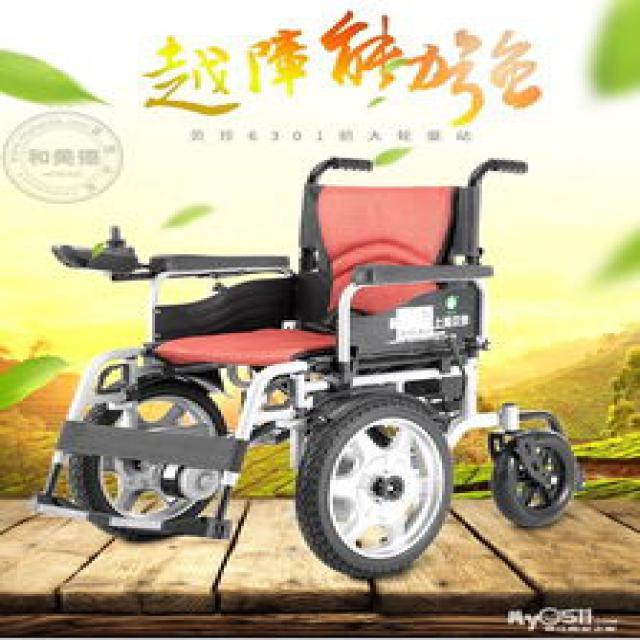wheelchair: (9, 153, 598, 581)
